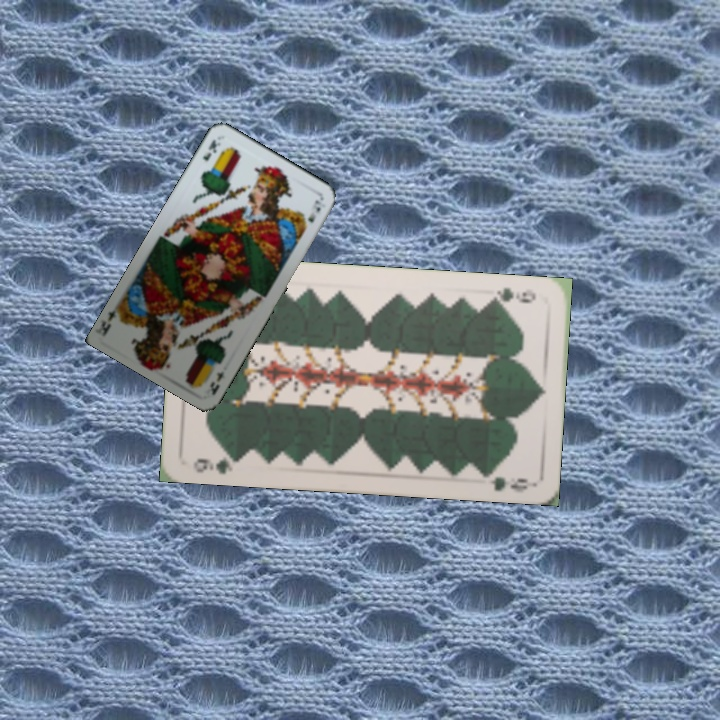EK: (198, 135, 224, 163), (206, 367, 227, 398)
G9: (189, 450, 245, 477), (485, 284, 538, 308)
